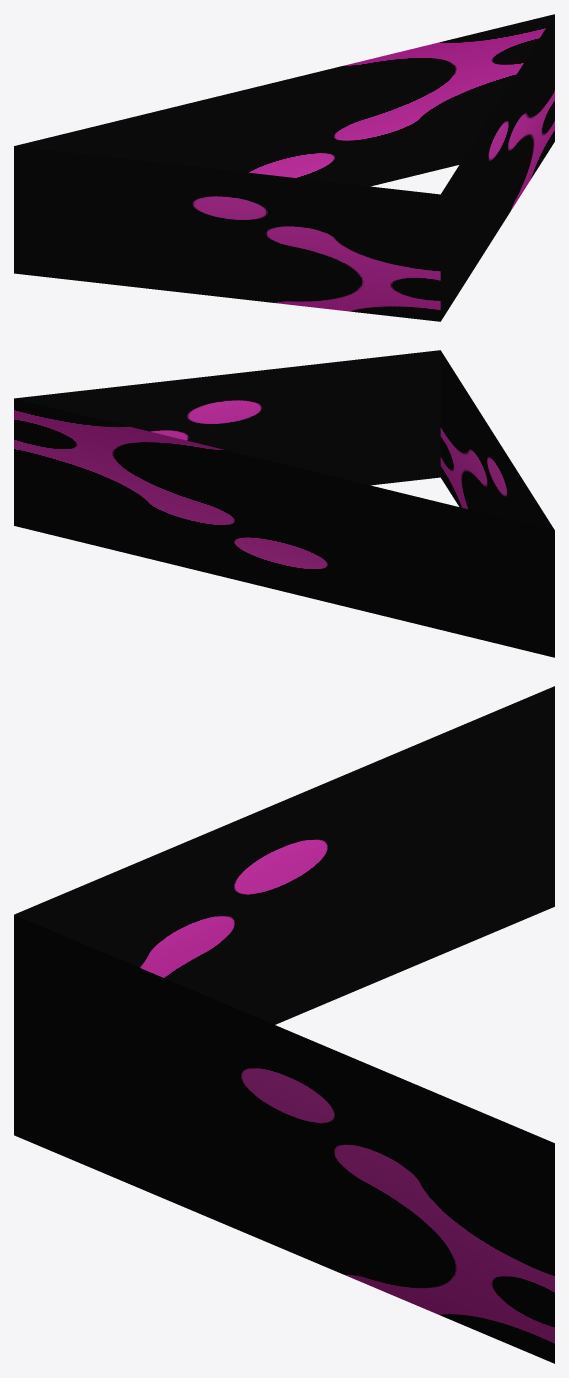
Rendered from XanaStage.fbx.
3 views of the same model, one above another, from view 1: azimuth 30°, elevation 25°; view 2: azimuth 150°, elevation 25°; view 3: azimuth 270°, elevation 25° (orthographic). The views are drawn at different scales.
Visible parts, largest first — view 1: Line003; view 2: Line003; view 3: Line003.
Boxes of the visible parts, x1=… form: Line003: x1=14, y1=14, x2=554, y2=321; Line003: x1=14, y1=350, x2=554, y2=657; Line003: x1=14, y1=686, x2=554, y2=1363.
Bounding box in the file's own units: 2000 × 450 × 1000.
